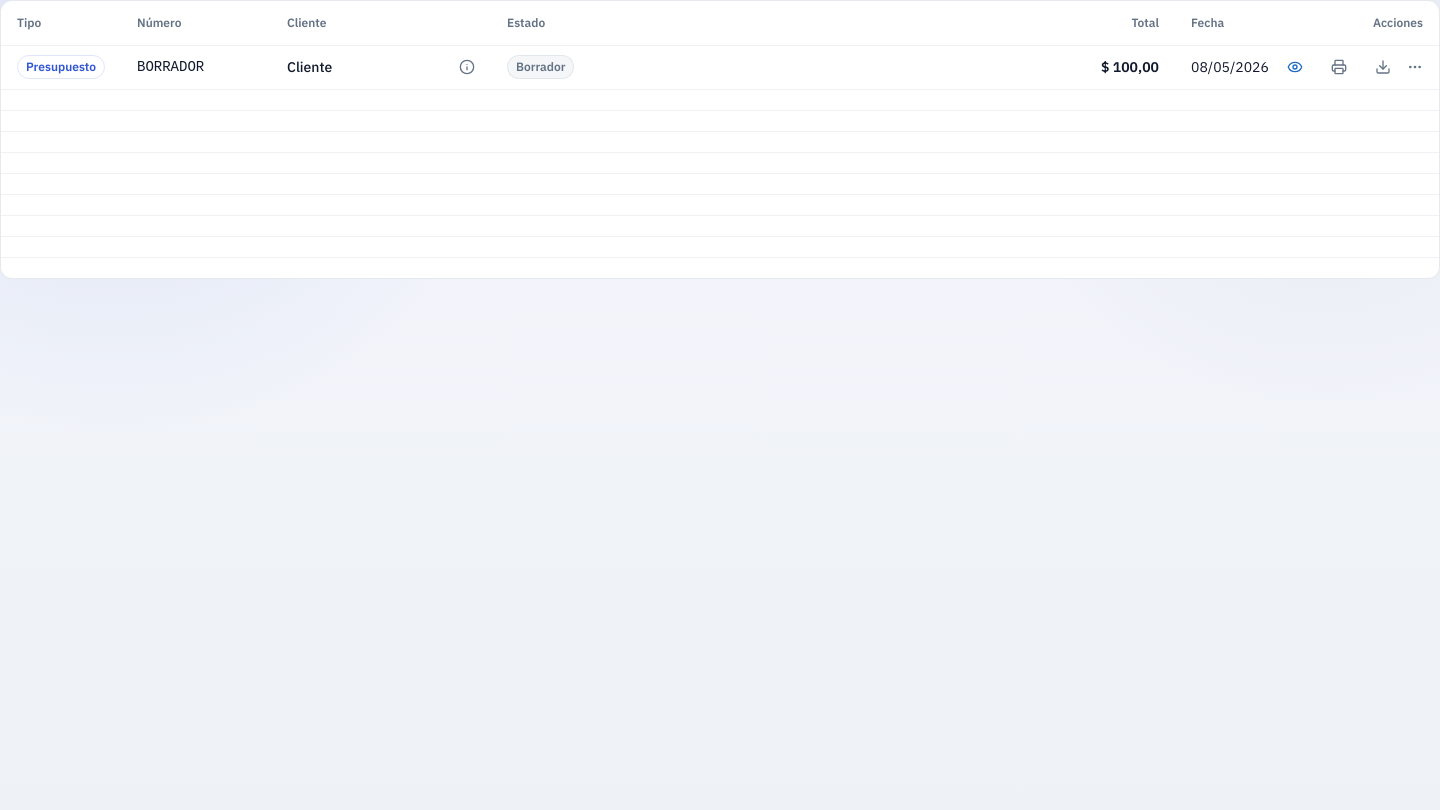
DocumentsDataTable duplicate action › disables duplicate while creation is not allowed
Click the button named "acciones". click: (1415, 67)
box: [1407,47,1423,87]
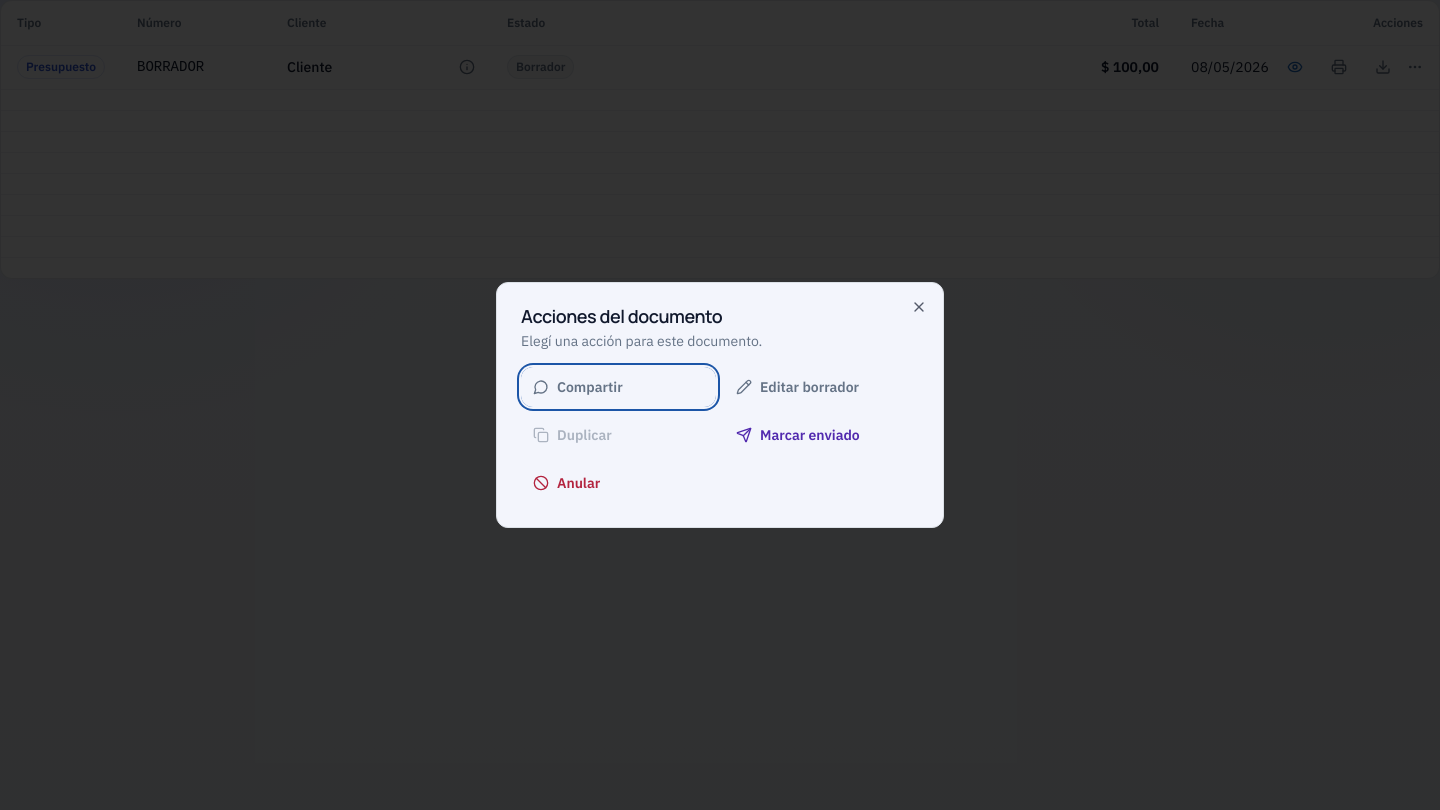
Check: the button "Duplicar" is disabled, box [521,415,716,455]
